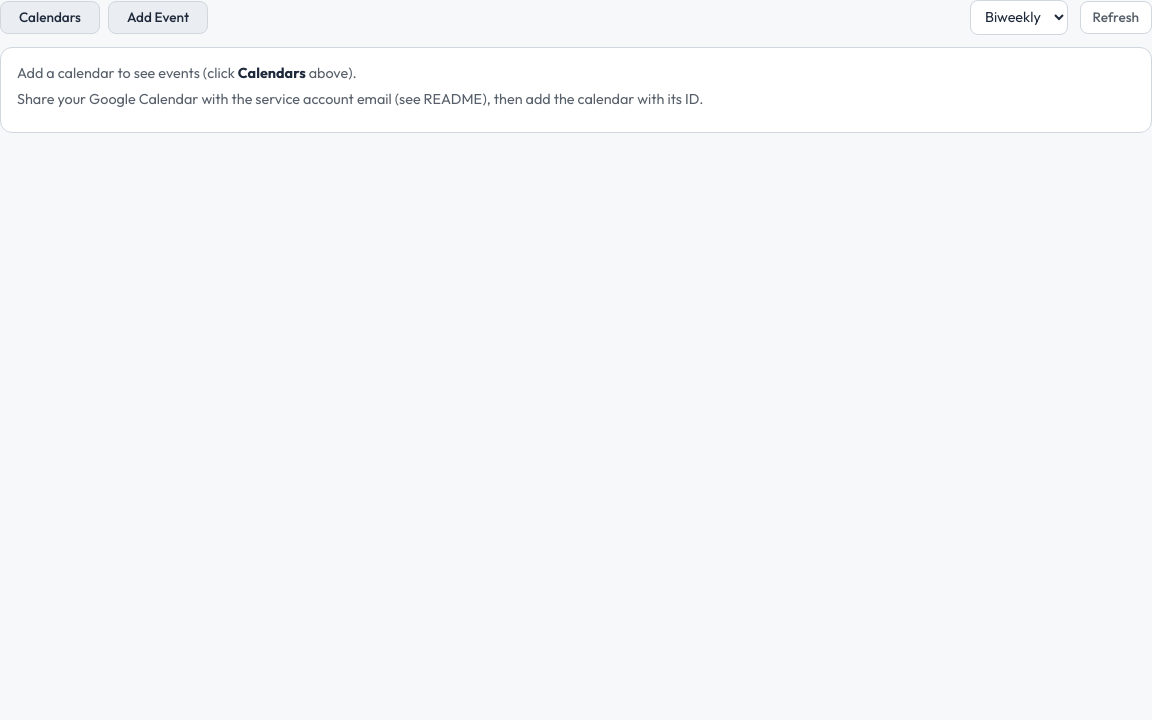
Test: CalendarTab › when no saved calendars, Add Event opens Calendars modal
Expected: the button "Calendars" is shown, [0,1,100,34]
What coordinates should you click on to do the following:
click the button "Add Event"
I would click on:
 (158, 17)
Its box is [108,1,208,34].
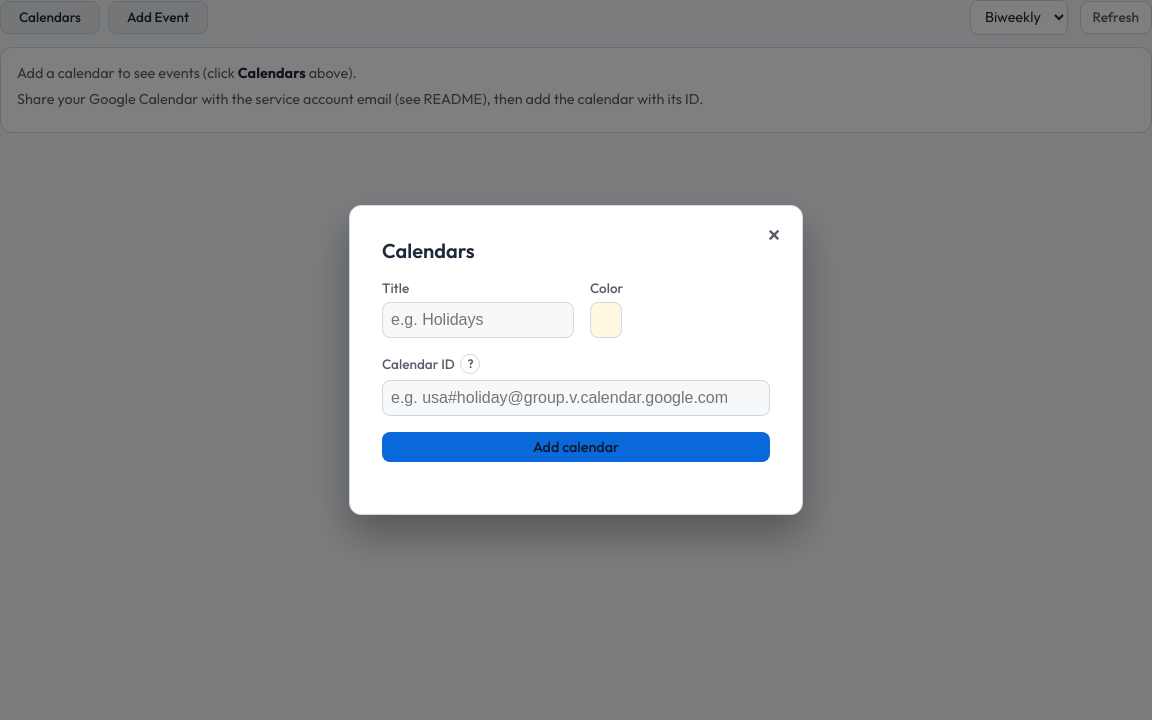
Result: the heading "Calendars" is shown at [382,238,475,262]
